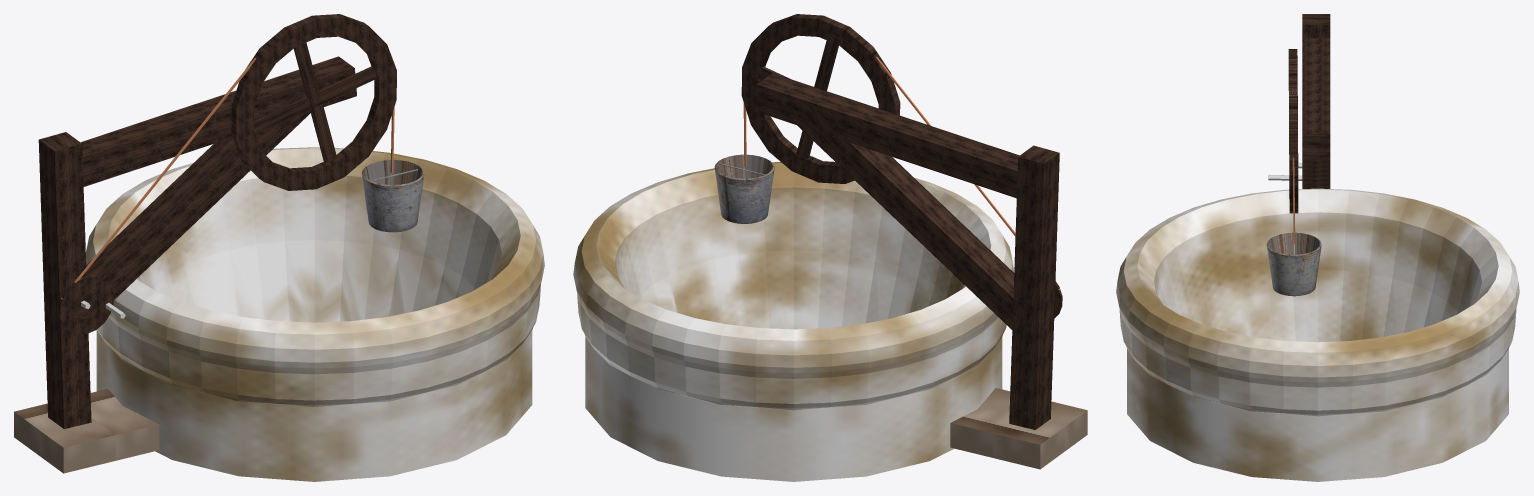
Rendered from well.glb.
The picture shows the model from 3 angles, left to right: view 1: azimuth 30°, elevation 25°; view 2: azimuth 150°, elevation 25°; view 3: azimuth 270°, elevation 25°; orthographic projection. The views are drawn at different scales.
Parts seen in each view (by area): view 1: Cylinder001, Box009, Tube001, Box004, Box010, Box001, Cone001, Tube002, Box005, Box006, Box007; view 2: Cylinder001, Box009, Box010, Box004, Tube001, Box001, Cone001, Box006; view 3: Cylinder001, Box010, Cone001, Tube001, Box004, Box009.
Part boxes in pixels (x1=…): Cylinder001: x1=86, y1=147, x2=544, y2=481; Box009: x1=38, y1=132, x2=91, y2=429; Tube001: x1=231, y1=14, x2=396, y2=190; Box004: x1=75, y1=87, x2=310, y2=317; Box010: x1=77, y1=56, x2=356, y2=187; Box001: x1=14, y1=389, x2=159, y2=473; Cone001: x1=361, y1=160, x2=424, y2=232; Tube002: x1=58, y1=275, x2=113, y2=334; Box005: x1=254, y1=66, x2=376, y2=134; Box006: x1=293, y1=42, x2=337, y2=163; Box007: x1=61, y1=58, x2=256, y2=299; Cylinder001: x1=573, y1=162, x2=1013, y2=481; Box009: x1=1009, y1=145, x2=1059, y2=429; Box010: x1=755, y1=73, x2=1019, y2=198; Box004: x1=794, y1=103, x2=1027, y2=329; Tube001: x1=741, y1=14, x2=900, y2=183; Box001: x1=950, y1=388, x2=1087, y2=469; Cone001: x1=714, y1=154, x2=774, y2=223; Box006: x1=796, y1=33, x2=839, y2=158; Cylinder001: x1=1116, y1=188, x2=1519, y2=481; Box010: x1=1302, y1=38, x2=1330, y2=159; Cone001: x1=1266, y1=232, x2=1321, y2=296; Tube001: x1=1288, y1=49, x2=1298, y2=213; Box004: x1=1302, y1=159, x2=1330, y2=187; Box009: x1=1302, y1=14, x2=1330, y2=188.
Size of the model in its own units: 1.45 by 1.13 by 1.21.
6 materials, 5 textured.
